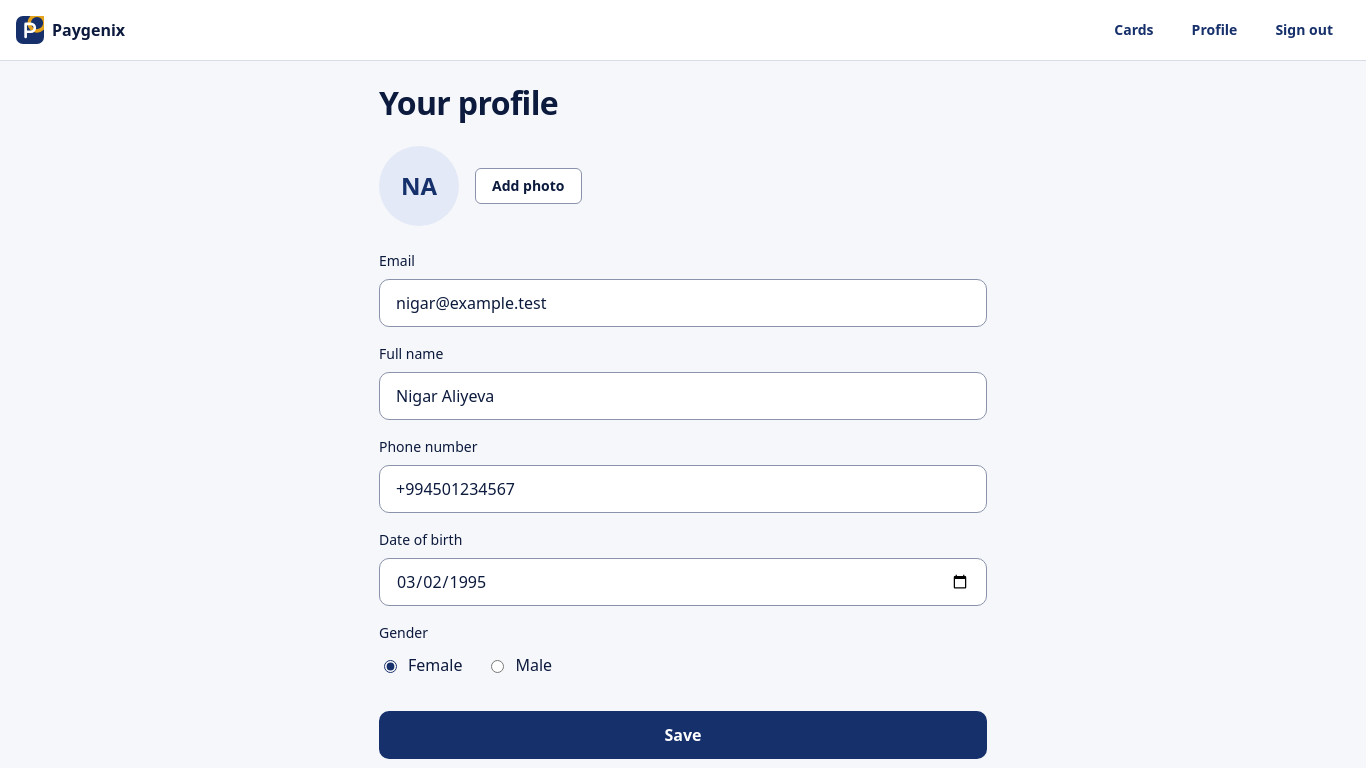
Test: a rejected save says so
The image size is (1366, 768).
Expected: the field labelled "Full name" is shown, 380,373 -> 986,419
What coordinates should you click on to do the following:
click the button "Save"
I would click on:
 (683, 735)
Its box is 379,711 -> 987,759.
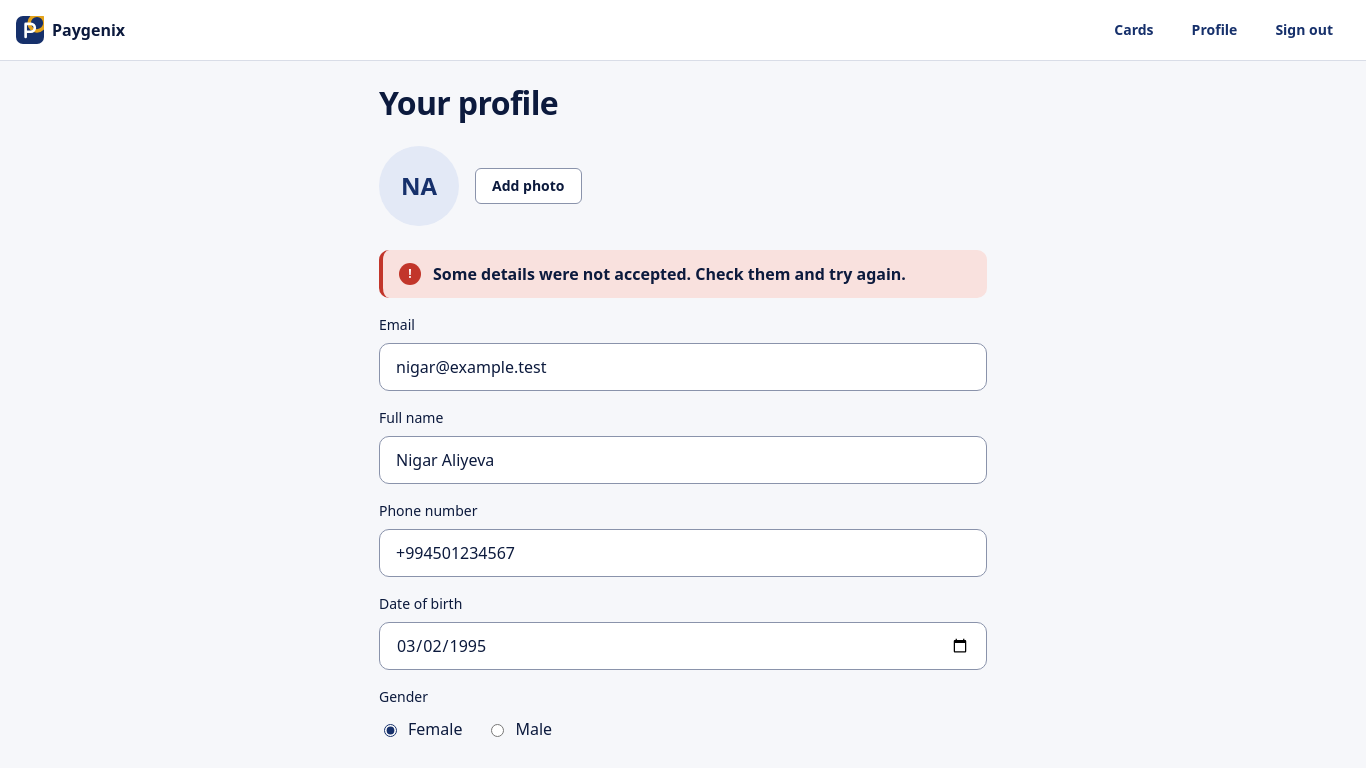
Now the text "Some details were not accepted. Check them and try again." is shown, box 433,262 -> 971,286
